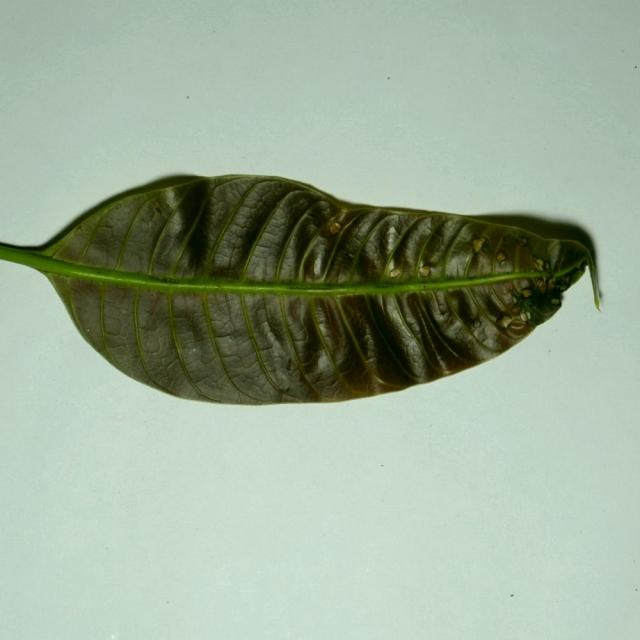Anthracnose: (356, 227, 441, 378), (95, 181, 193, 277), (323, 278, 394, 389), (411, 262, 474, 368), (231, 193, 312, 273), (237, 291, 296, 397), (164, 288, 211, 397), (202, 187, 262, 272), (429, 220, 486, 306), (385, 214, 454, 285), (277, 207, 335, 283), (303, 291, 347, 390), (339, 214, 400, 284), (76, 204, 137, 261), (444, 284, 498, 347), (132, 282, 163, 389), (194, 302, 255, 342), (96, 275, 120, 374), (497, 275, 534, 317), (135, 296, 163, 332), (511, 237, 533, 275), (542, 247, 558, 278)
Mango: (0, 175, 601, 408)
